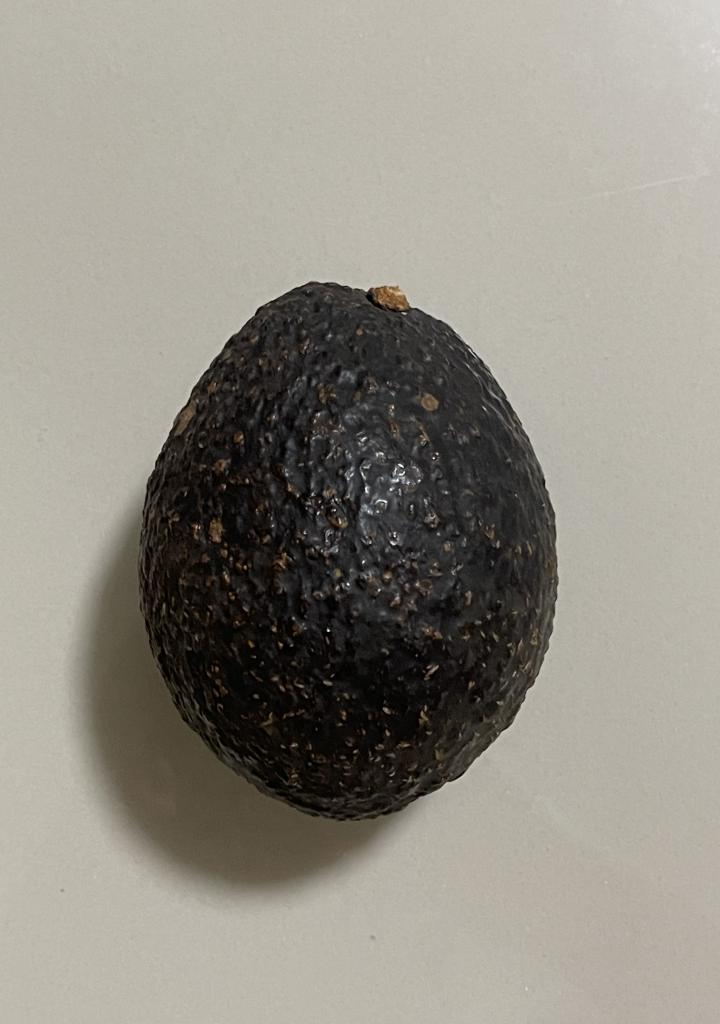Level2: (131, 274, 565, 825)
